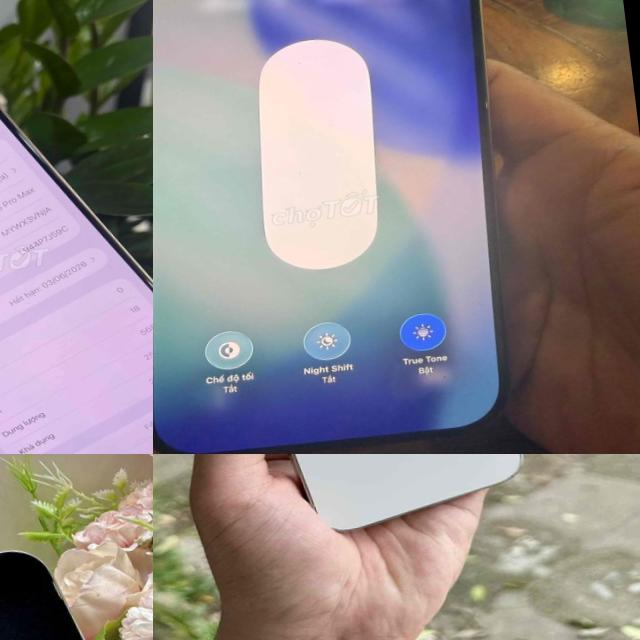gen_12_13: (176, 454, 533, 551)
gen_16: (153, 0, 505, 454), (0, 108, 153, 454)
